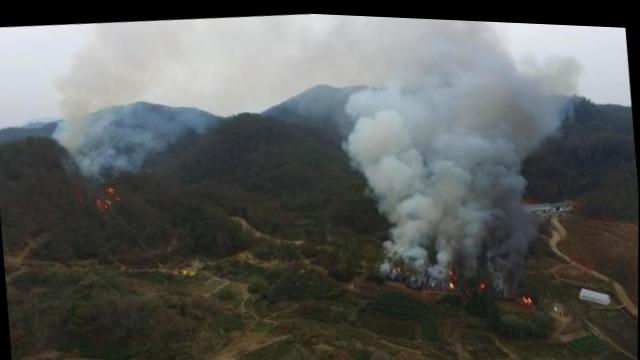fire: (365, 197, 547, 328), (53, 156, 145, 229)
